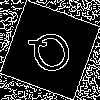Q: (25, 25, 80, 86)
